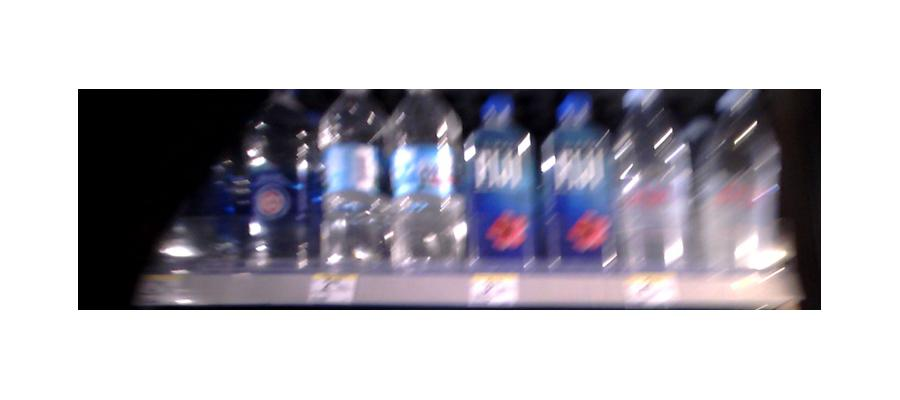bottle: (617, 97, 698, 279), (698, 109, 782, 283), (315, 94, 392, 269), (389, 92, 462, 272), (242, 95, 316, 272), (463, 92, 538, 266), (543, 93, 615, 263)
